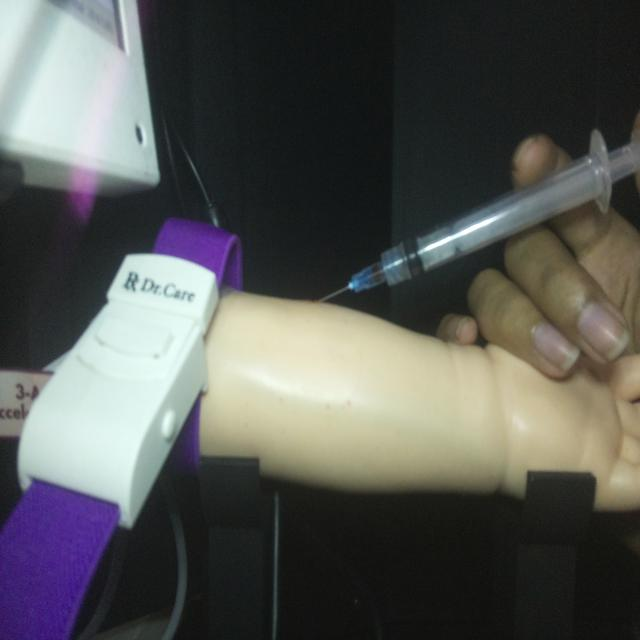17 degrees: (315, 126, 637, 305)
